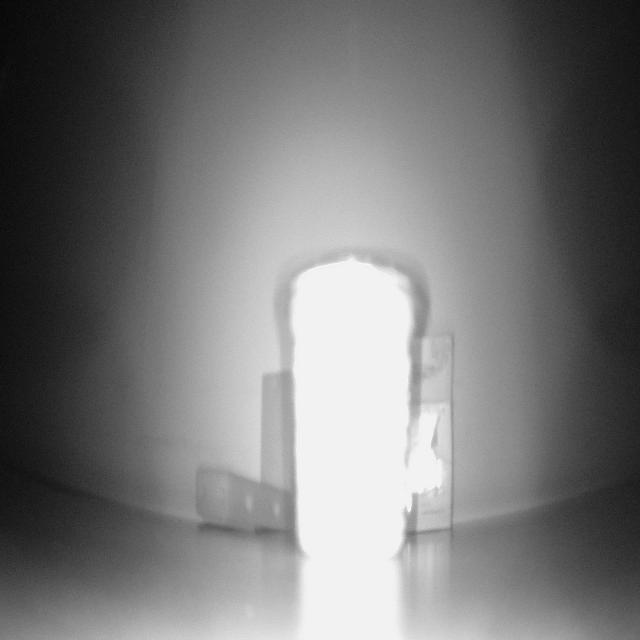targets: (296, 257, 421, 557), (190, 366, 297, 540)
